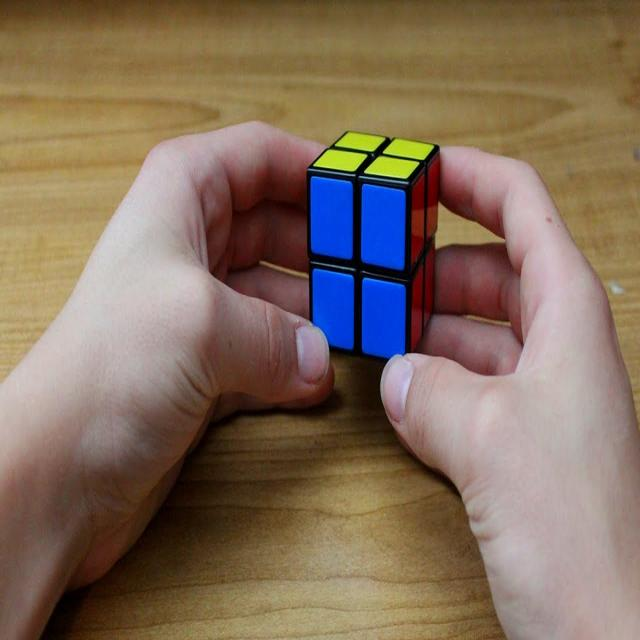cube: (311, 129, 439, 353)
